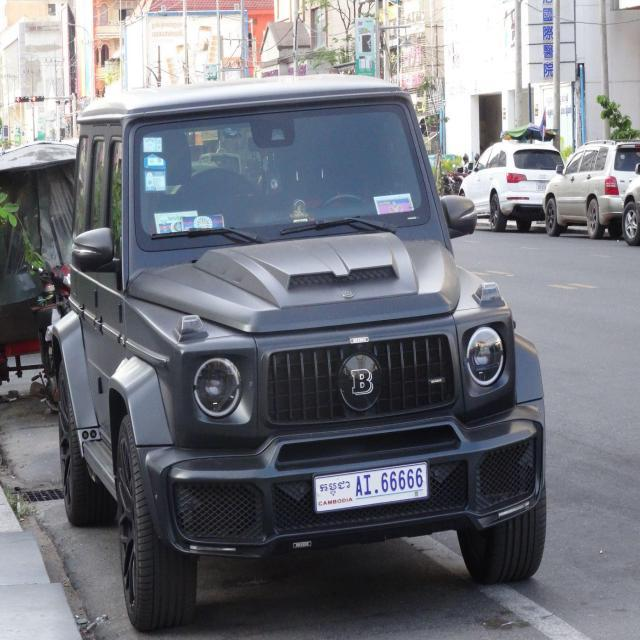Cambodia: (320, 479, 350, 498)
